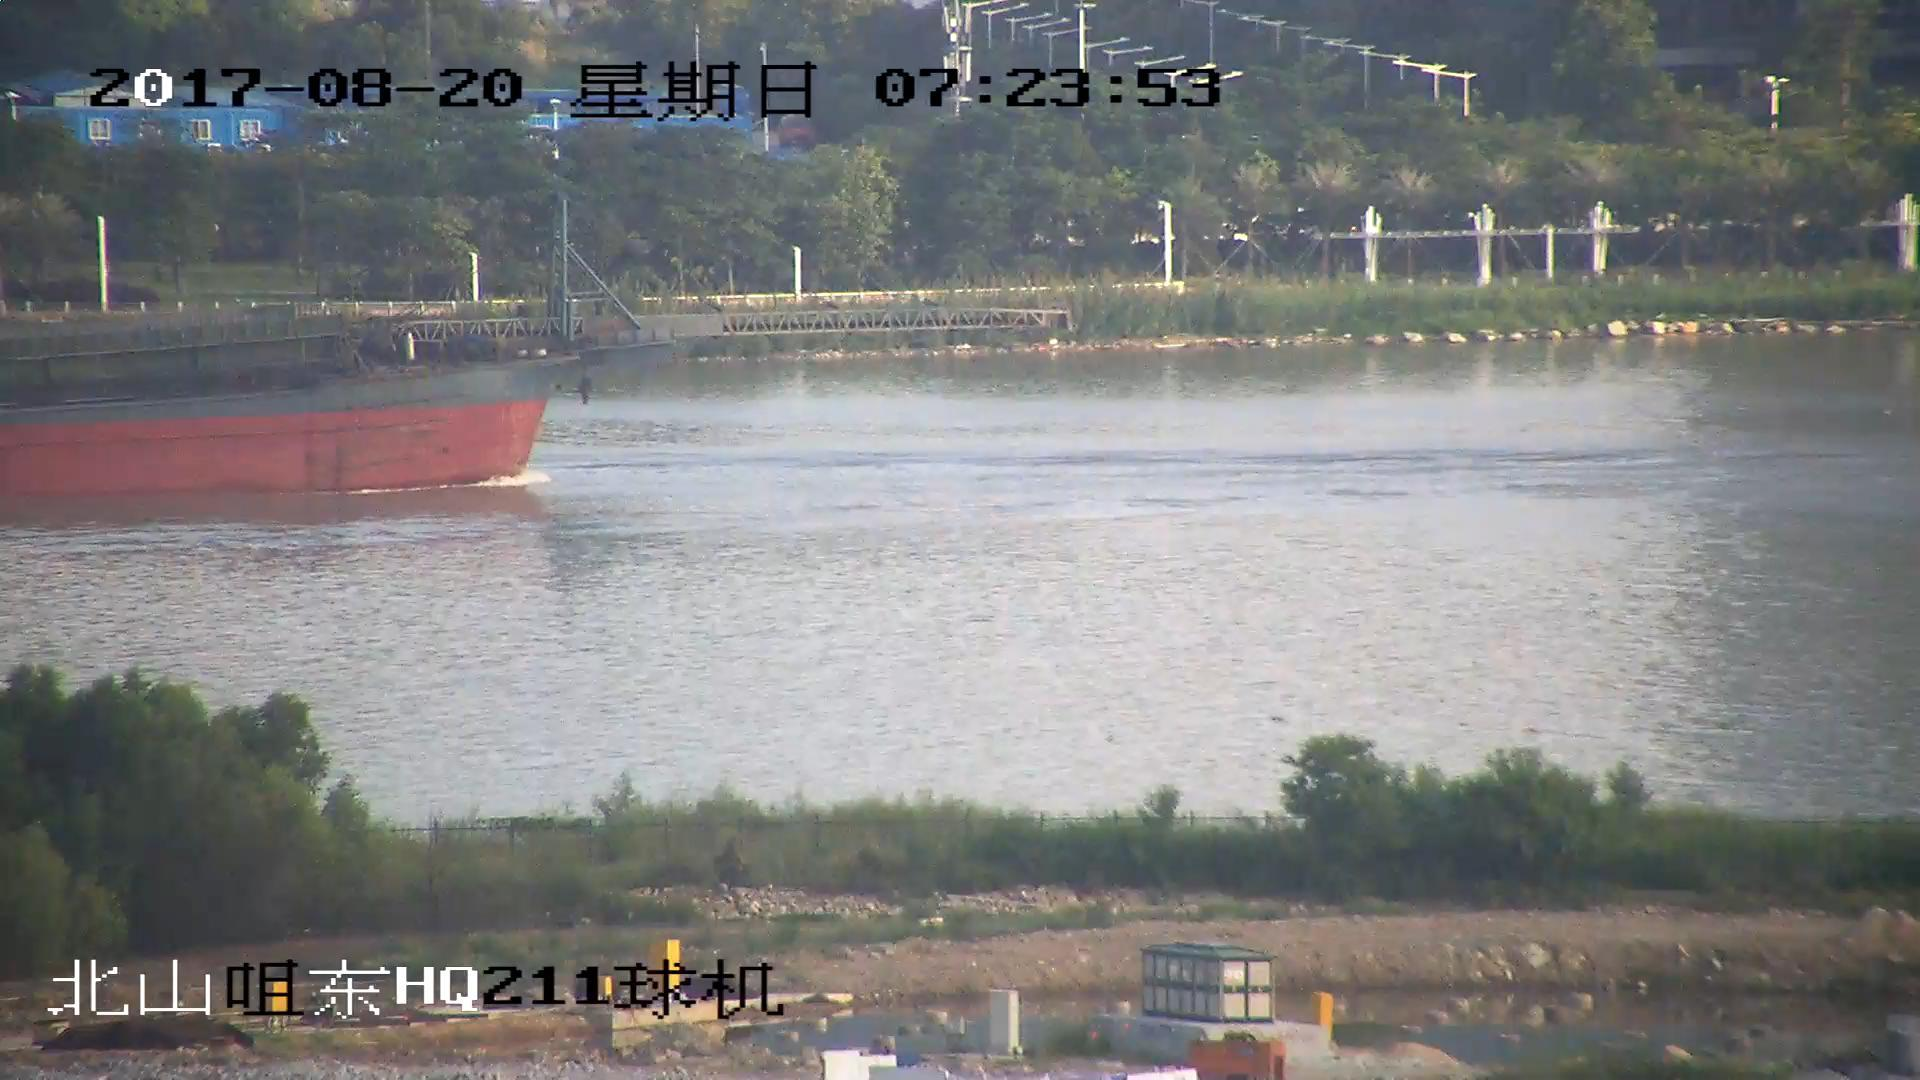Ship: (3, 174, 1055, 502)
